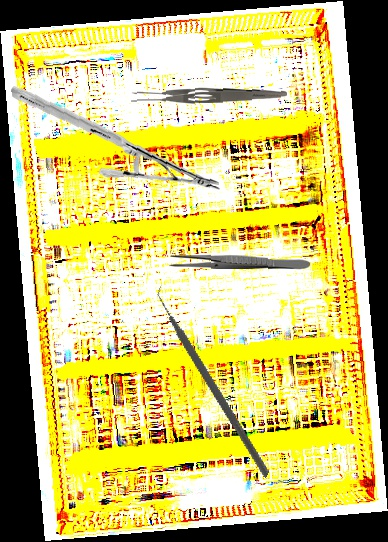Chopper: (104, 277, 327, 478)
Dressing Forceps: (130, 83, 288, 106), (168, 253, 311, 271)
Needle Holder: (11, 72, 220, 206)
